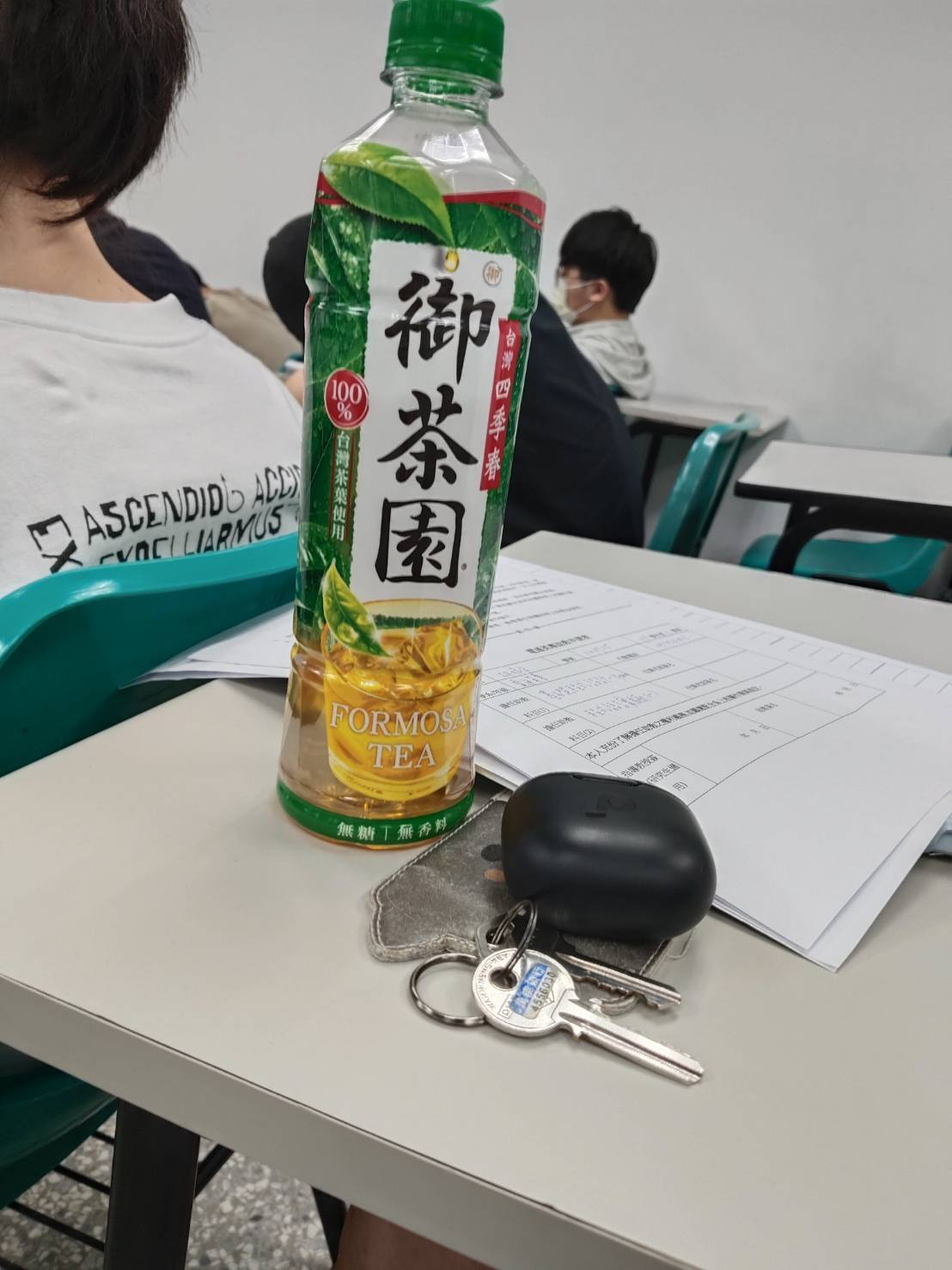plastic: (268, 9, 531, 856)
